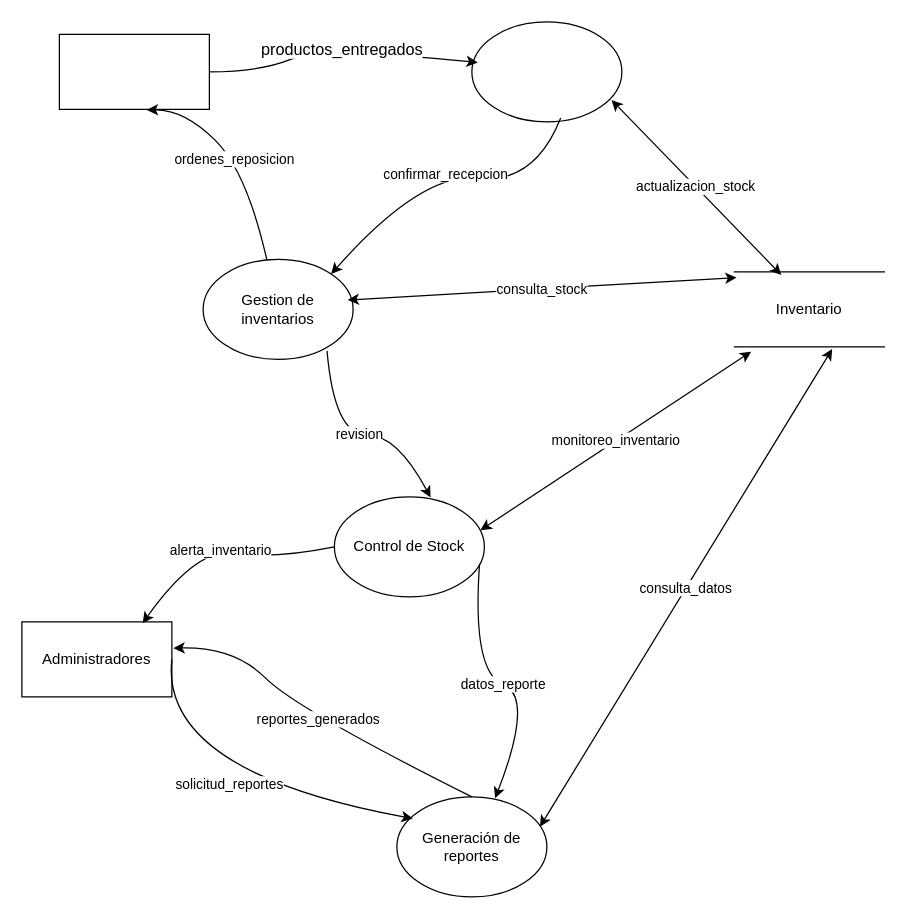
The diagram is 906 pixels wide and 919 high, and some of its shapes have lost their labels. Each missing label, with the centre of its shape:
"Proveedores" goes at (133,71).
"Recepción de mercancías" goes at (546,71).
